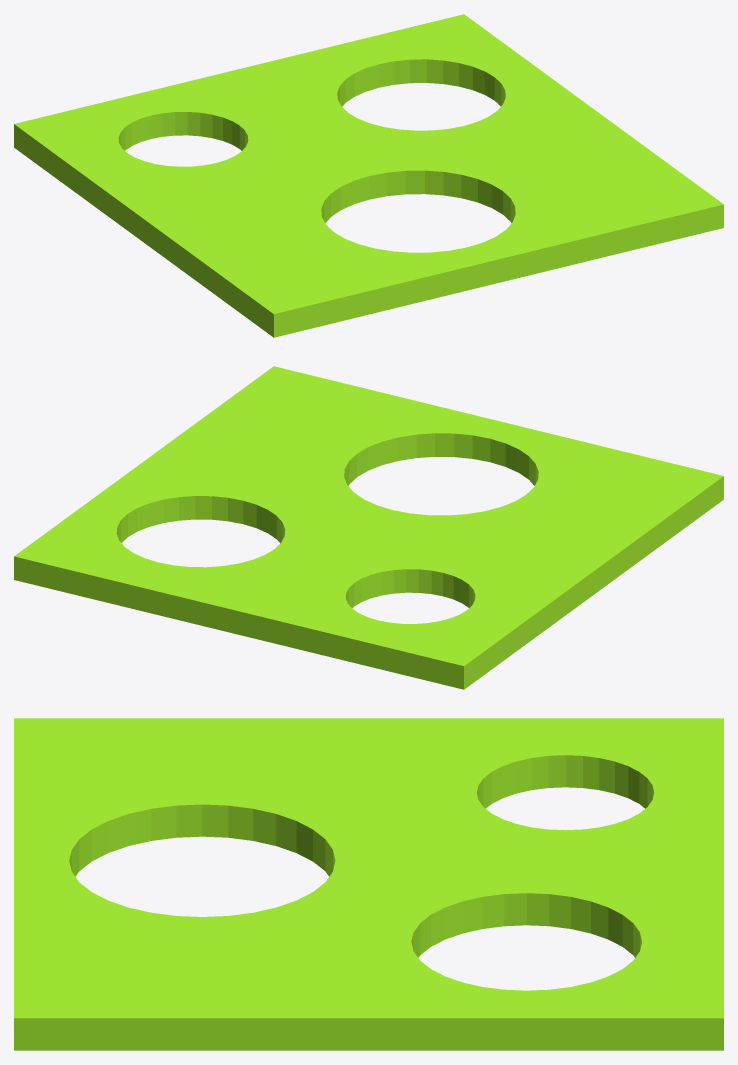
The model's file is floorWithHoles.glb.
3 renders of one model, top to bottom at view 1: azimuth 30°, elevation 25°; view 2: azimuth 150°, elevation 25°; view 3: azimuth 270°, elevation 25°, orthographic. The views are drawn at different scales.
Parts seen in each view (by area): view 1: Cube; view 2: Cube; view 3: Cube.
Boxes of the visible parts, x1,y1,x2,y2 form: Cube: (14,14,723,337); Cube: (14,366,723,689); Cube: (14,718,723,1050).
Bounding box in the file's own units: 8 × 0.4 × 8.
